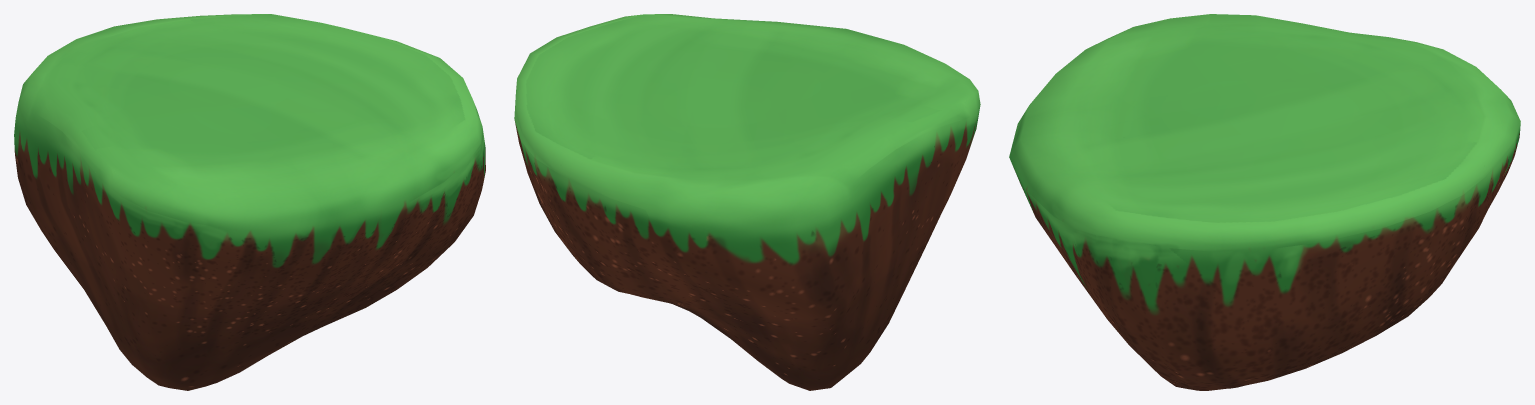
Rendered from Forest_Ground.glb.
3 views of the same model, side by side, from view 1: azimuth 30°, elevation 25°; view 2: azimuth 150°, elevation 25°; view 3: azimuth 270°, elevation 25° (orthographic). The views are drawn at different scales.
Visible parts, largest first — view 1: Cube; view 2: Cube; view 3: Cube.
Boxes of the visible parts, x1=… form: Cube: x1=14, y1=14, x2=485, y2=390; Cube: x1=514, y1=14, x2=980, y2=390; Cube: x1=1009, y1=14, x2=1520, y2=390.
Size of the model in its own units: 383 by 266 by 403.
1 material, 1 textured.
